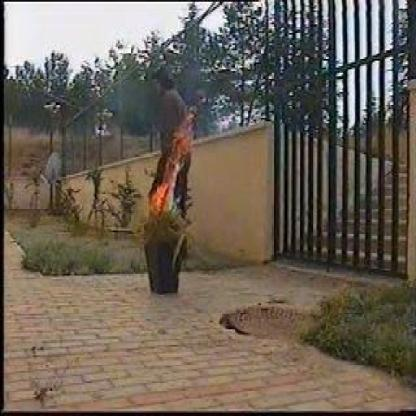foggia-v2-map80-epoch100 - v1 4323: (152, 112, 189, 221)
